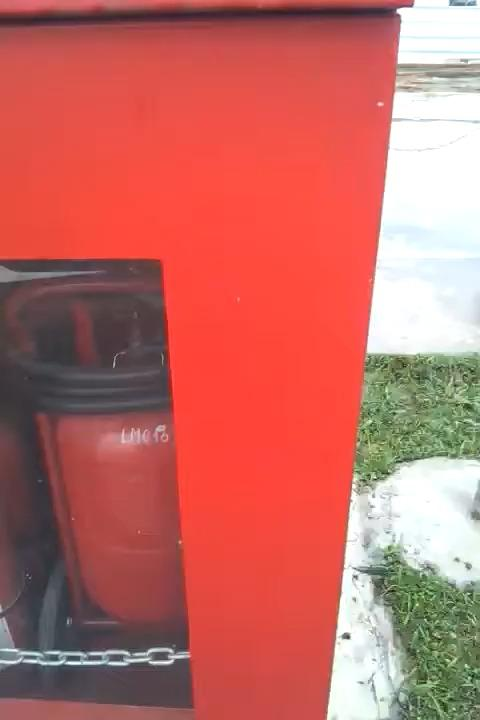FireExtinguisher: (7, 282, 194, 628)
